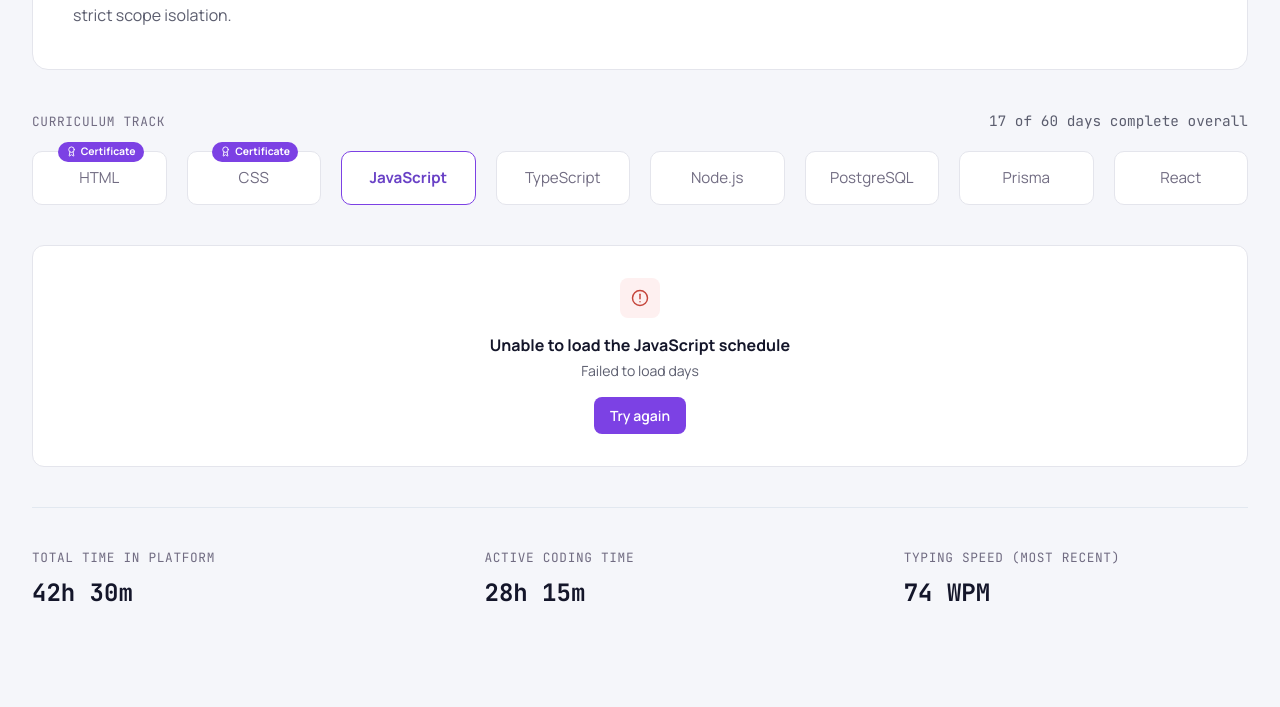
Test: DashboardPage › offers Try again when the days fail to load, and loads them again
(page scrolled)
Expected: the text "Failed to load days" is shown, [581,361,699,380]
Click the button "Try again" at (640, 416), box [594,397,686,434]
(page scrolled)
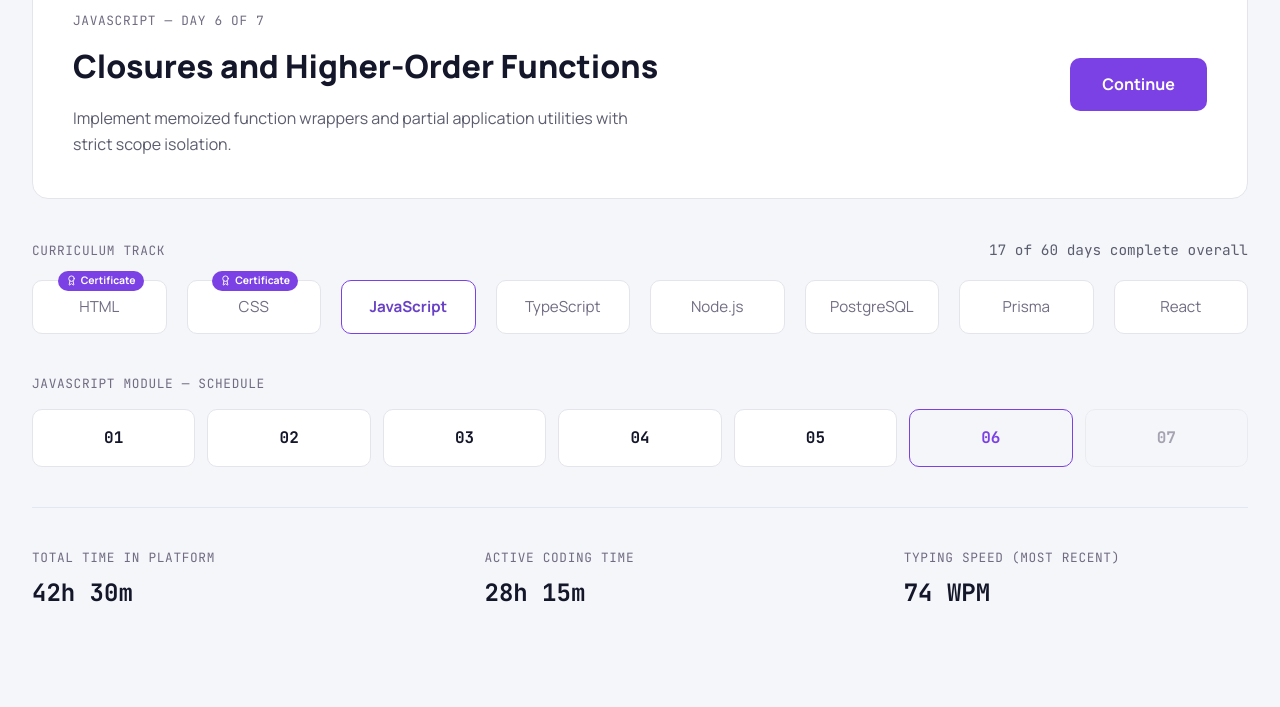
Now the text "JavaScript Module — Schedule" is shown, box [32,375,265,392]
Now the text "Failed to load days" is gone
